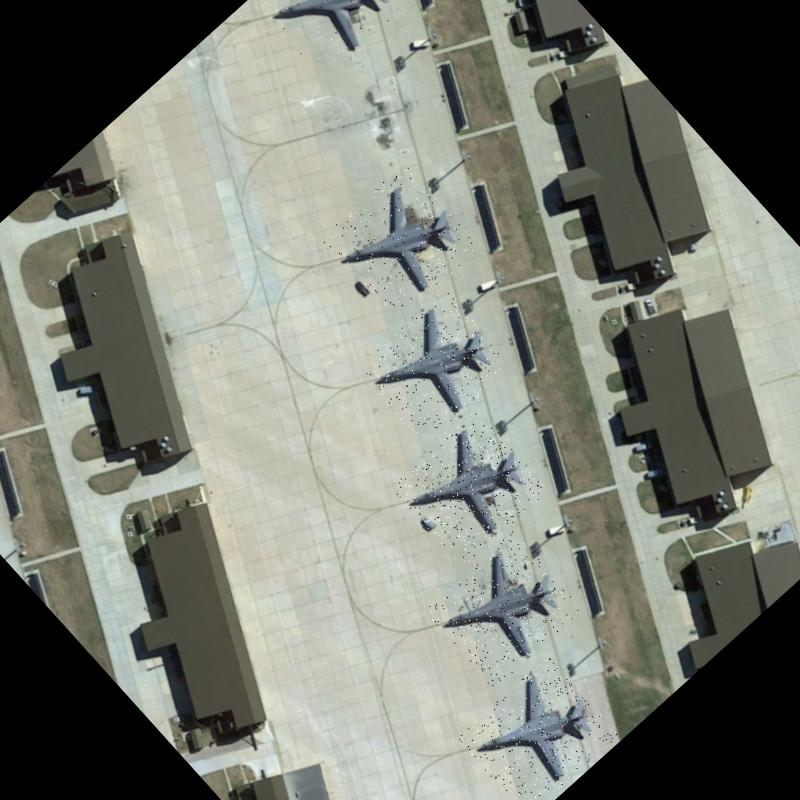A10: (320, 161, 482, 323), (422, 529, 583, 689), (354, 286, 513, 444), (390, 409, 548, 567), (456, 654, 620, 800), (252, 0, 418, 83)
